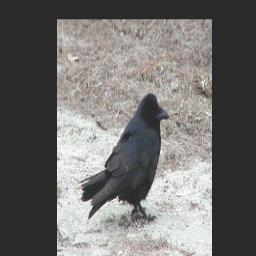Crow: (79, 91, 169, 223)
